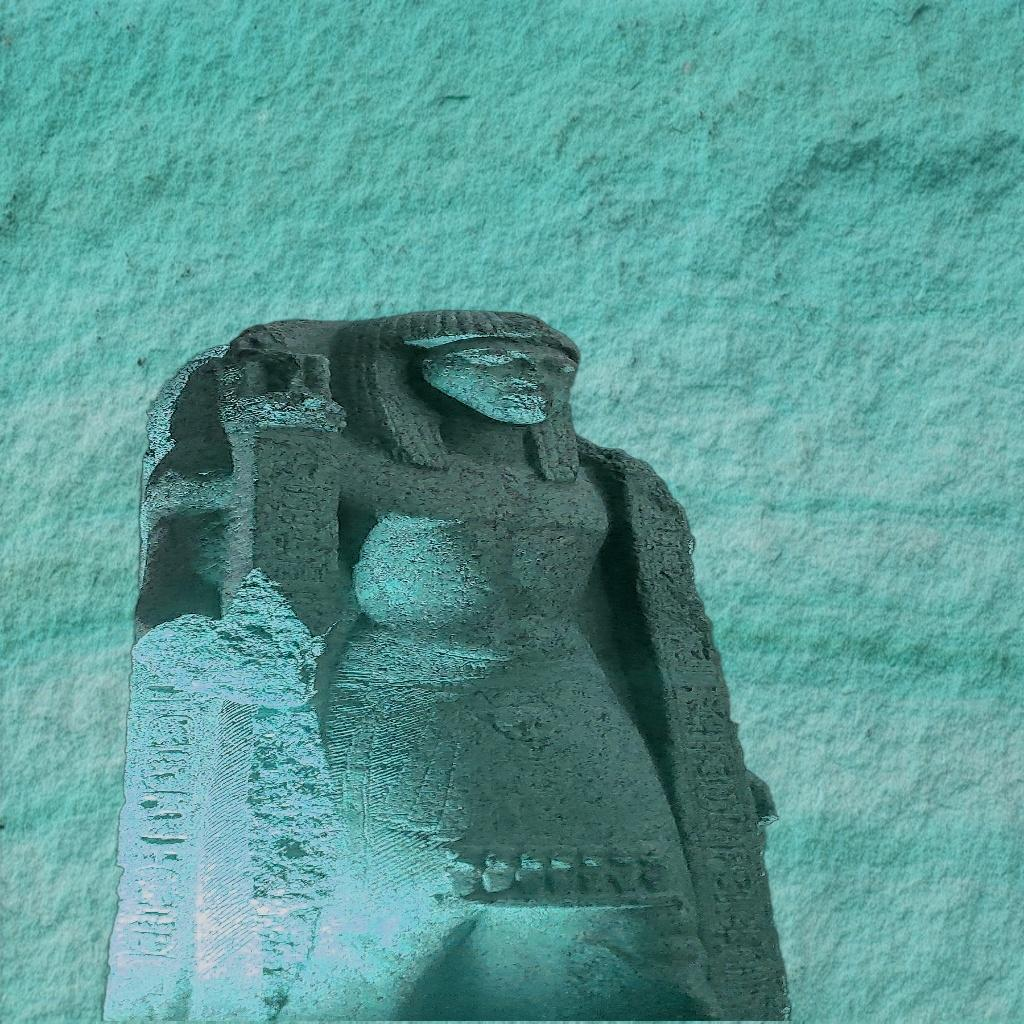Statue of Merenptah as standard Bearer: (101, 307, 796, 1021)
